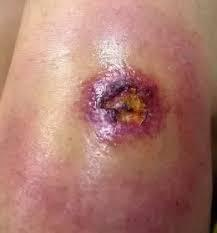Spider: (63, 48, 178, 165)
